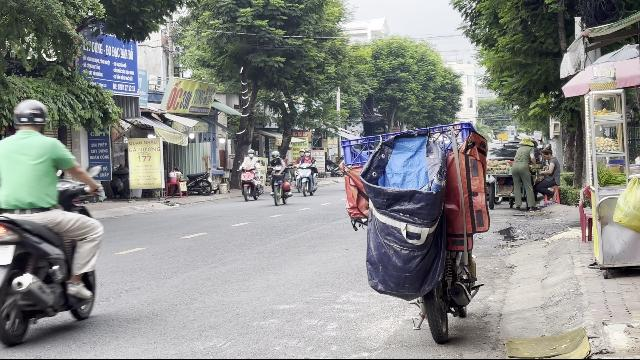helmet: (10, 98, 48, 132)
motorcyclist: (0, 98, 108, 344)
